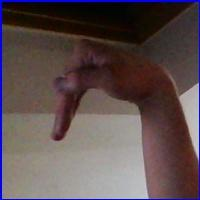del: (49, 38, 168, 151)
